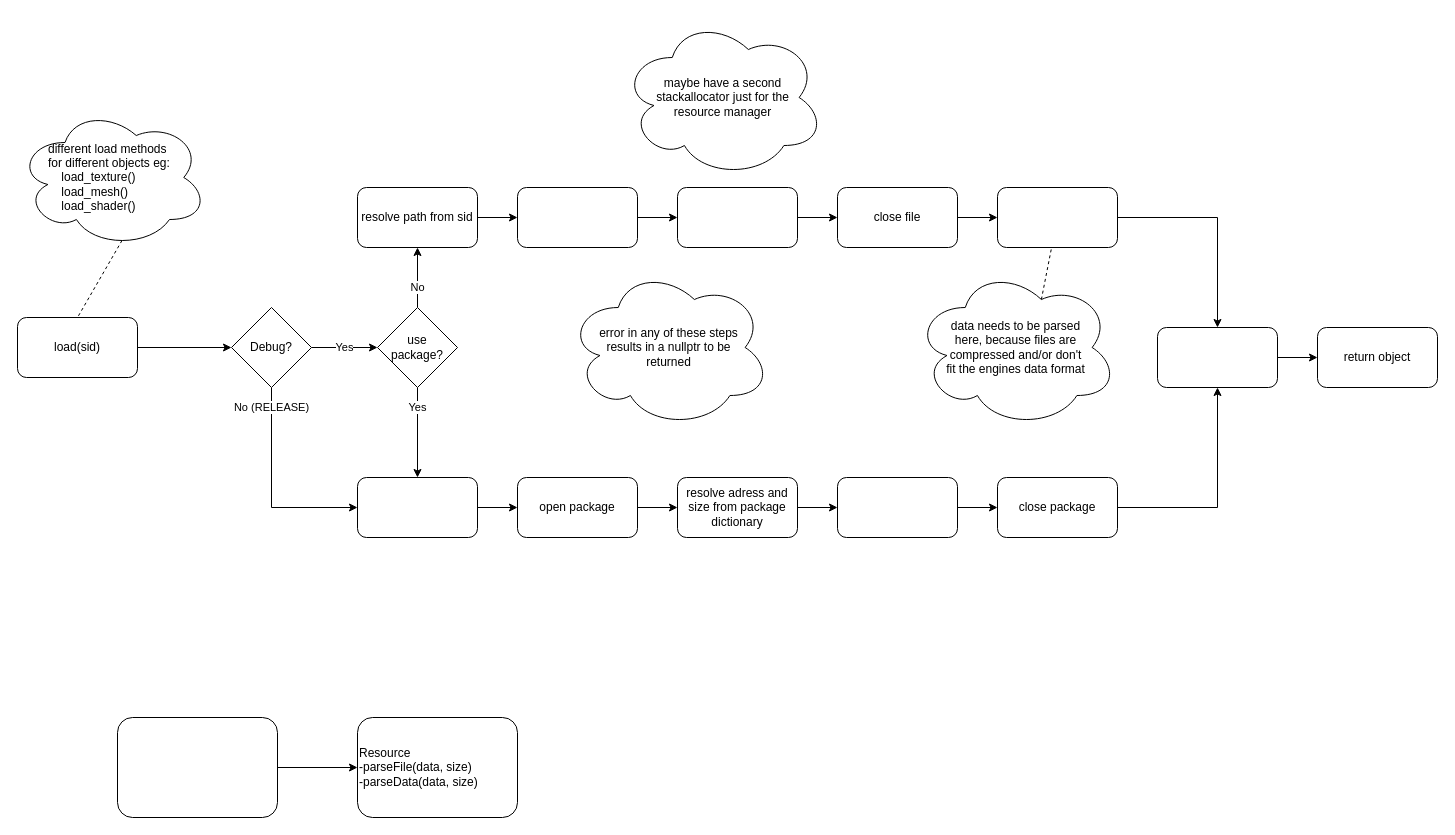
Image size: 1455x835. Some labels were removed from this diagram. Each missing label, with the box of its shape:
construct object: (1156, 326, 1278, 388)
locate package: (356, 476, 478, 538)
open file: (516, 186, 638, 248)
parse fileformat and construct object: (996, 186, 1118, 248)
read and copy data: (836, 476, 958, 538)
read file: (676, 186, 798, 248)
risResourceManager: (116, 716, 278, 818)
